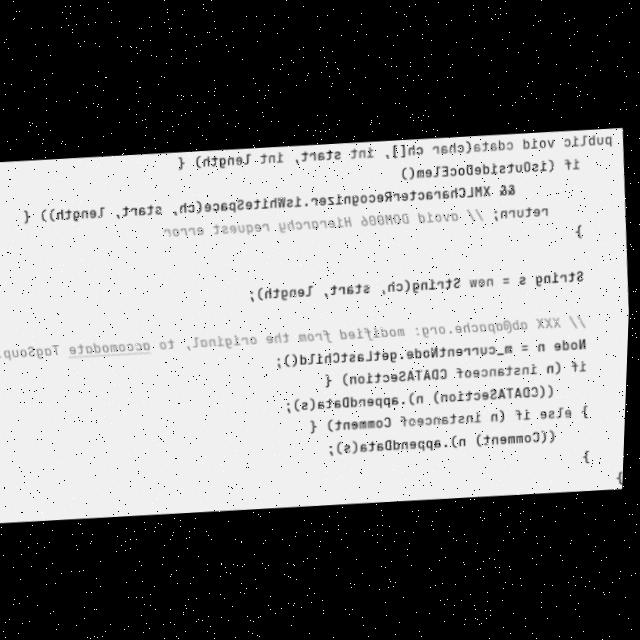code_screen: (0, 127, 629, 519)
